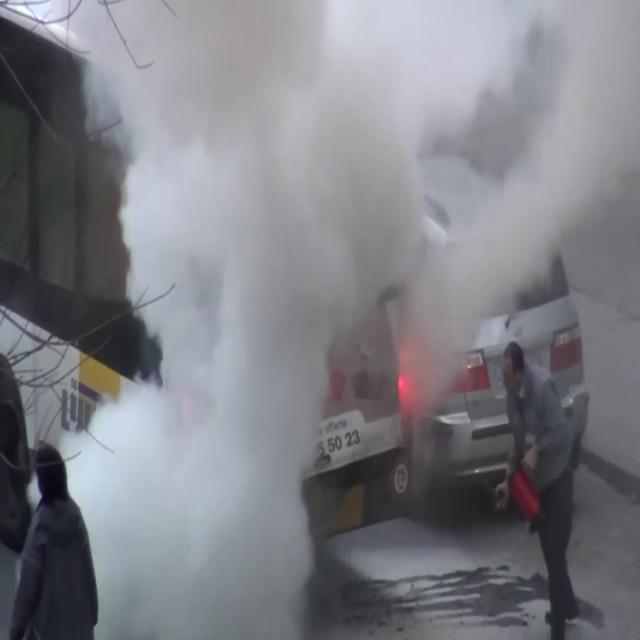Smoke: (68, 0, 361, 632), (340, 0, 634, 370)
